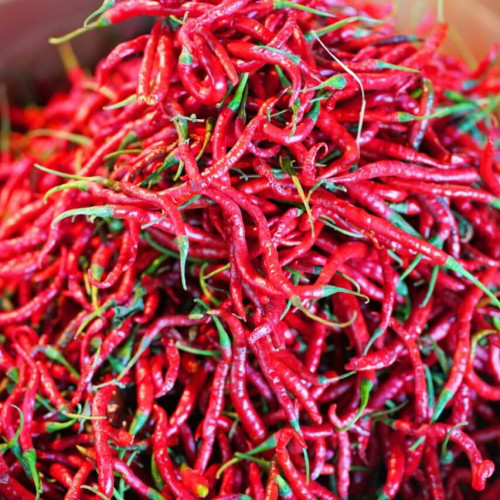Cabai: (139, 96, 389, 424)
